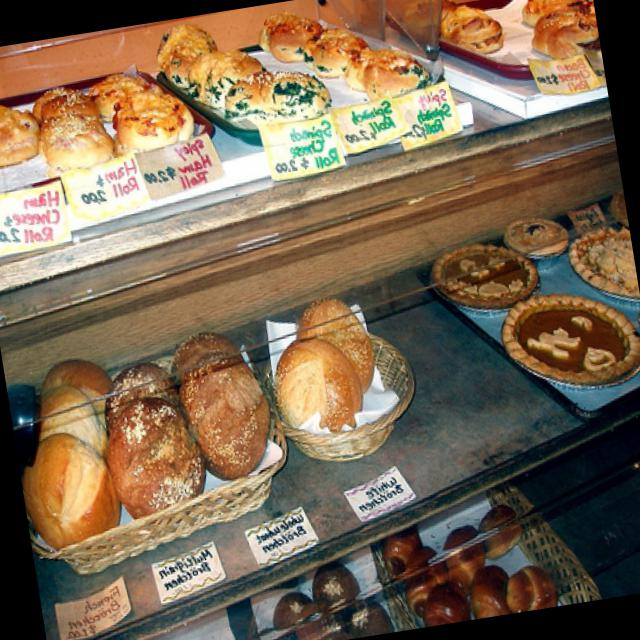basket crop: (36, 341, 286, 574), (273, 319, 414, 461)
bread: (160, 20, 333, 130), (34, 71, 192, 171), (263, 12, 430, 100)
bread roll: (104, 397, 205, 515), (182, 347, 273, 477), (32, 430, 127, 547), (278, 337, 363, 431), (441, 2, 504, 52), (534, 8, 597, 53), (0, 105, 41, 164)
bread rolls: (300, 296, 381, 390)
cake occluded: (505, 290, 640, 384), (433, 241, 540, 311), (571, 217, 639, 296), (505, 215, 572, 257)
price: (261, 110, 350, 180), (392, 79, 463, 150), (55, 575, 134, 638), (152, 540, 228, 603), (246, 503, 320, 564), (346, 463, 417, 521)
tray occluded: (158, 20, 449, 145), (0, 69, 213, 207), (399, 0, 599, 75)
